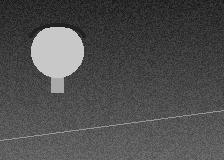no_helmet: (31, 23, 83, 82)
